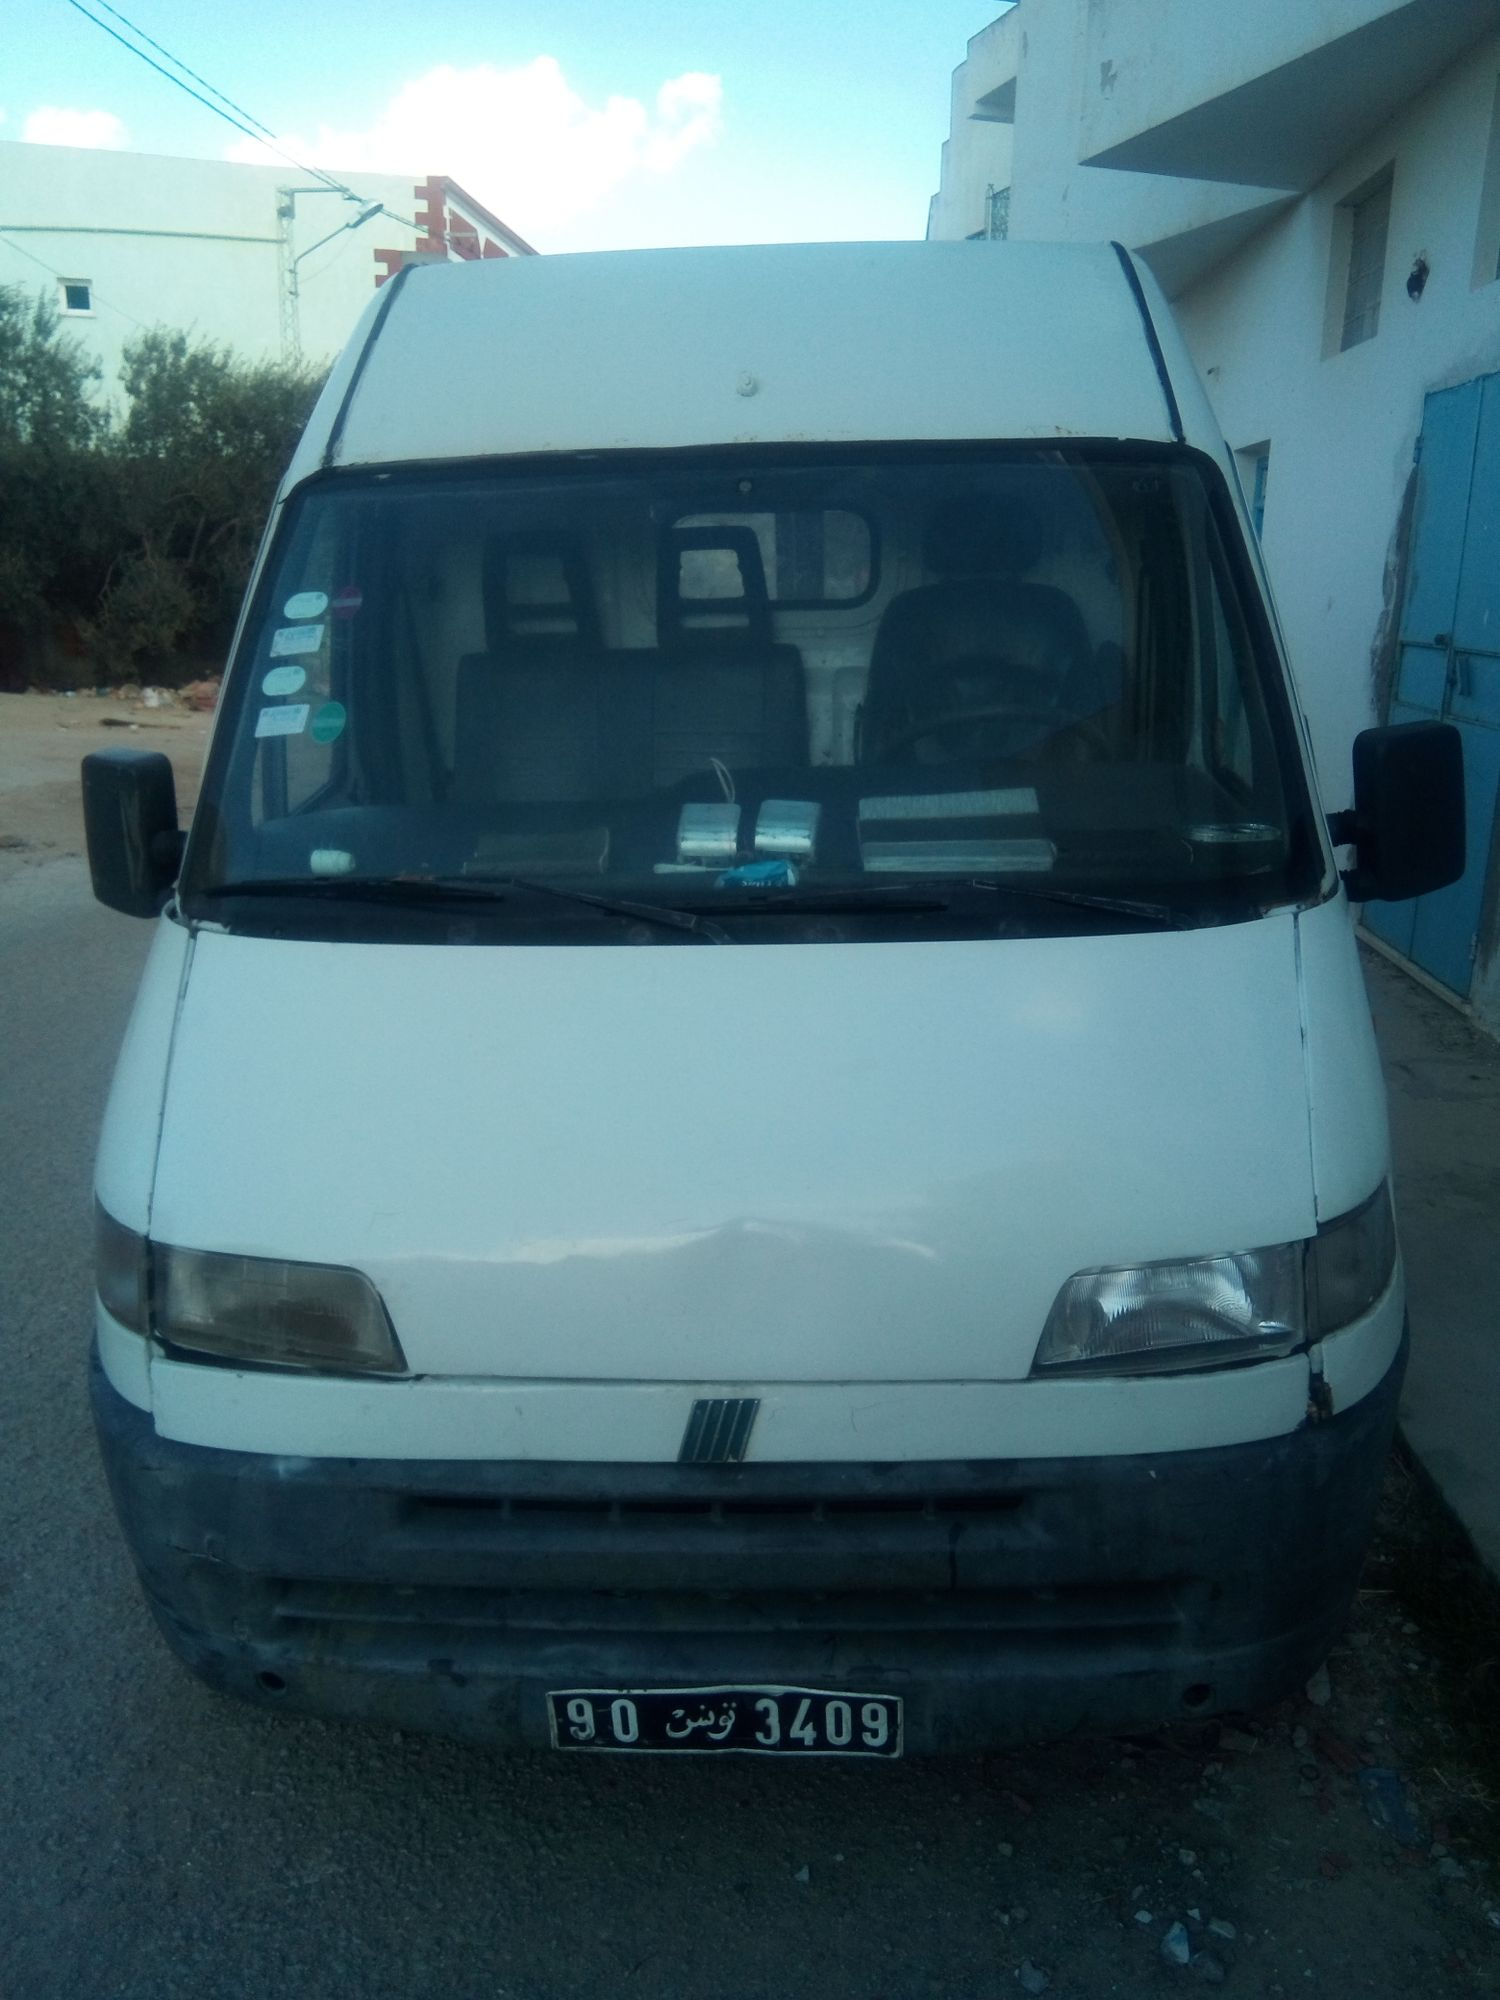LP: (538, 1678, 915, 1772)
